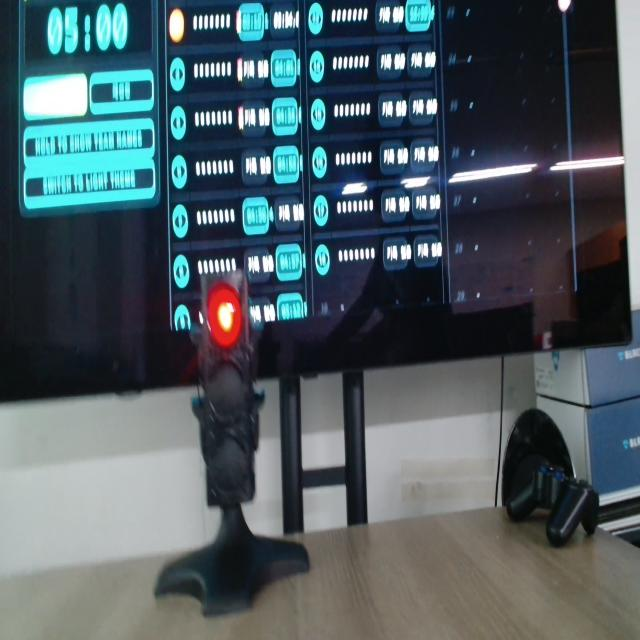red_light: (208, 283, 242, 348)
